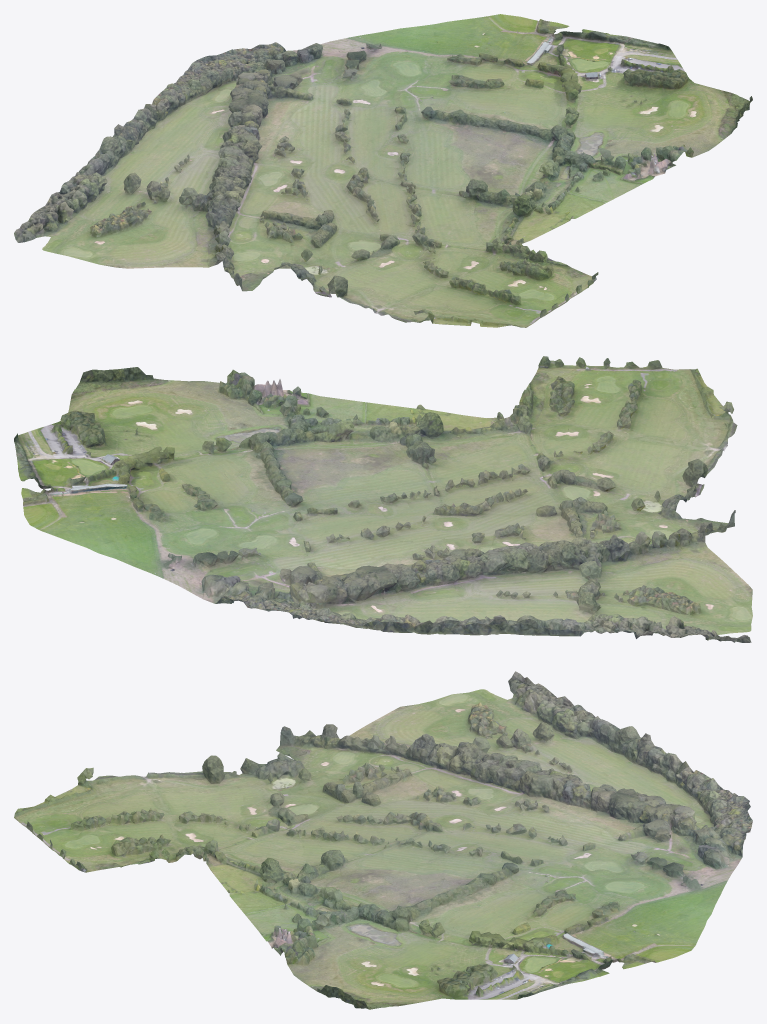
File: golf_course.glb
The picture shows the model from 3 angles, top to bottom: view 1: azimuth 30°, elevation 25°; view 2: azimuth 150°, elevation 25°; view 3: azimuth 270°, elevation 25°; orthographic projection. The views are drawn at different scales.
Size of the model in its own units: 331 by 17.45 by 289.
1 material, 1 textured.
